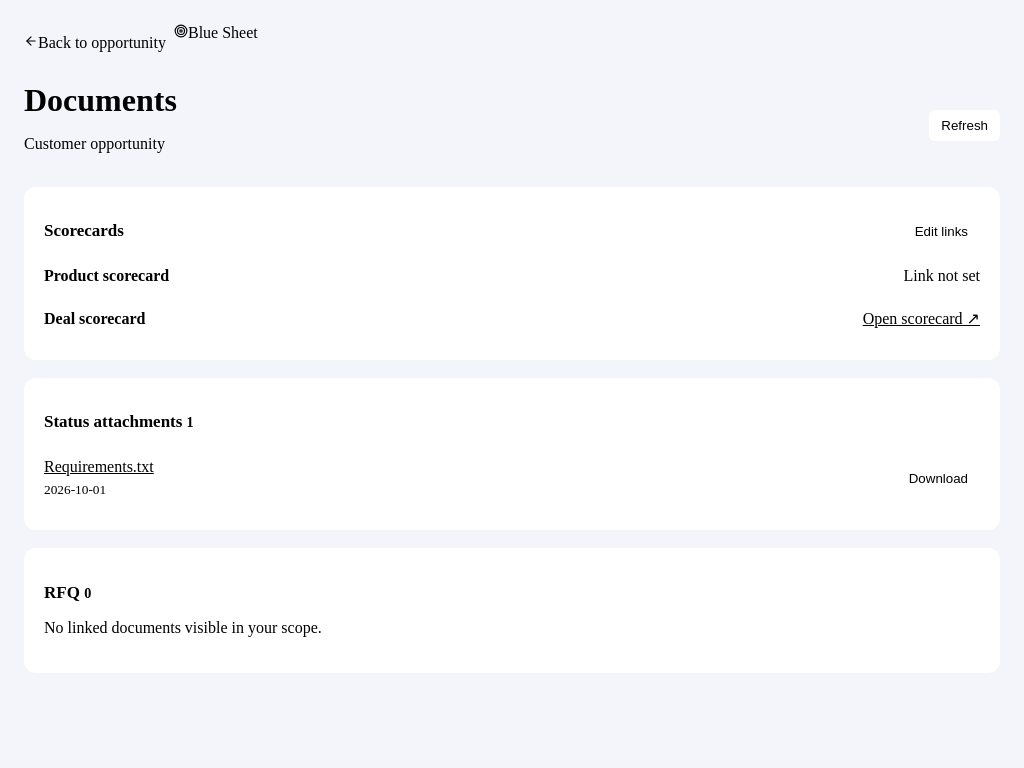
Test case: Opportunity document library › uses the scoped download endpoint and surfaces deleted files without losing the library
What coordinates should you click on to do the following:
click the button "Download"
I would click on:
 (938, 478)
Its box is [897,463,980,494].
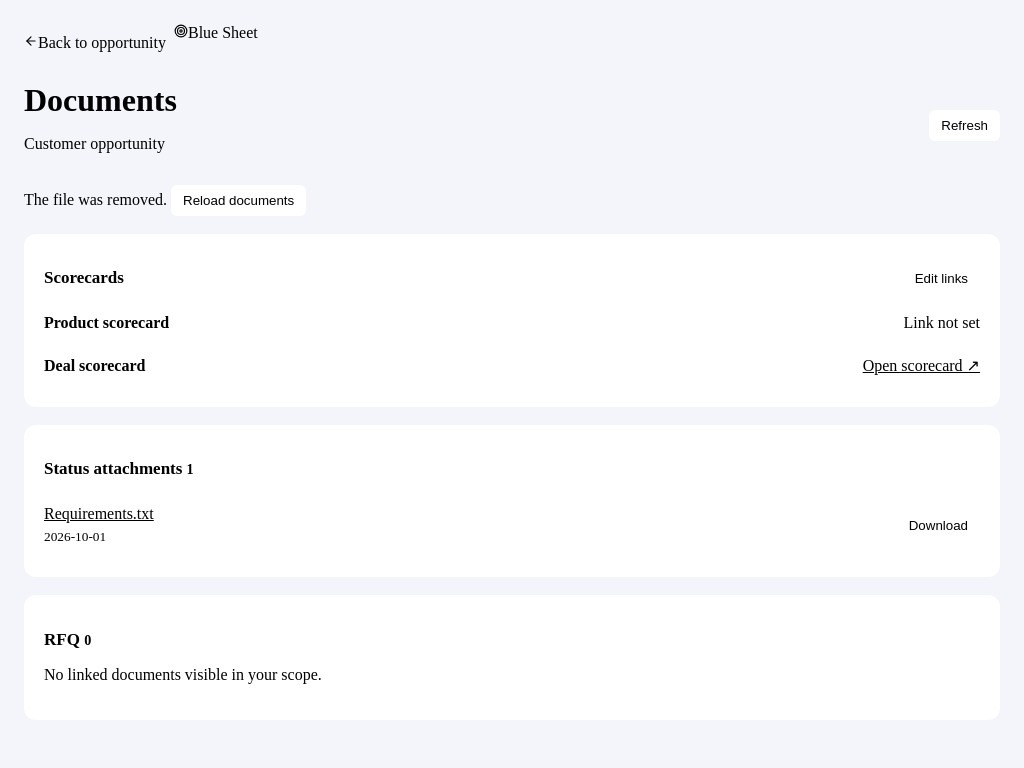
Check: the element with test id "documents-status" is shown, box [24,425,1000,577]
Check: the text "The file was removed." is shown, box [24,191,171,208]
